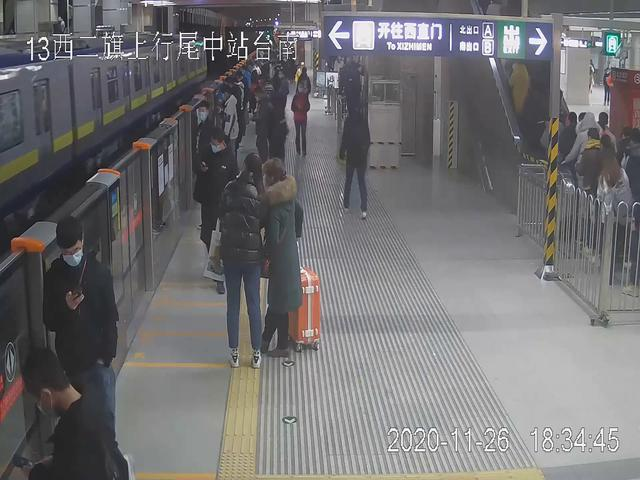person: (40, 208, 119, 480), (12, 345, 132, 480), (219, 154, 268, 369), (262, 159, 313, 355), (198, 133, 242, 294), (338, 102, 379, 216), (219, 87, 244, 188), (289, 82, 312, 161)
